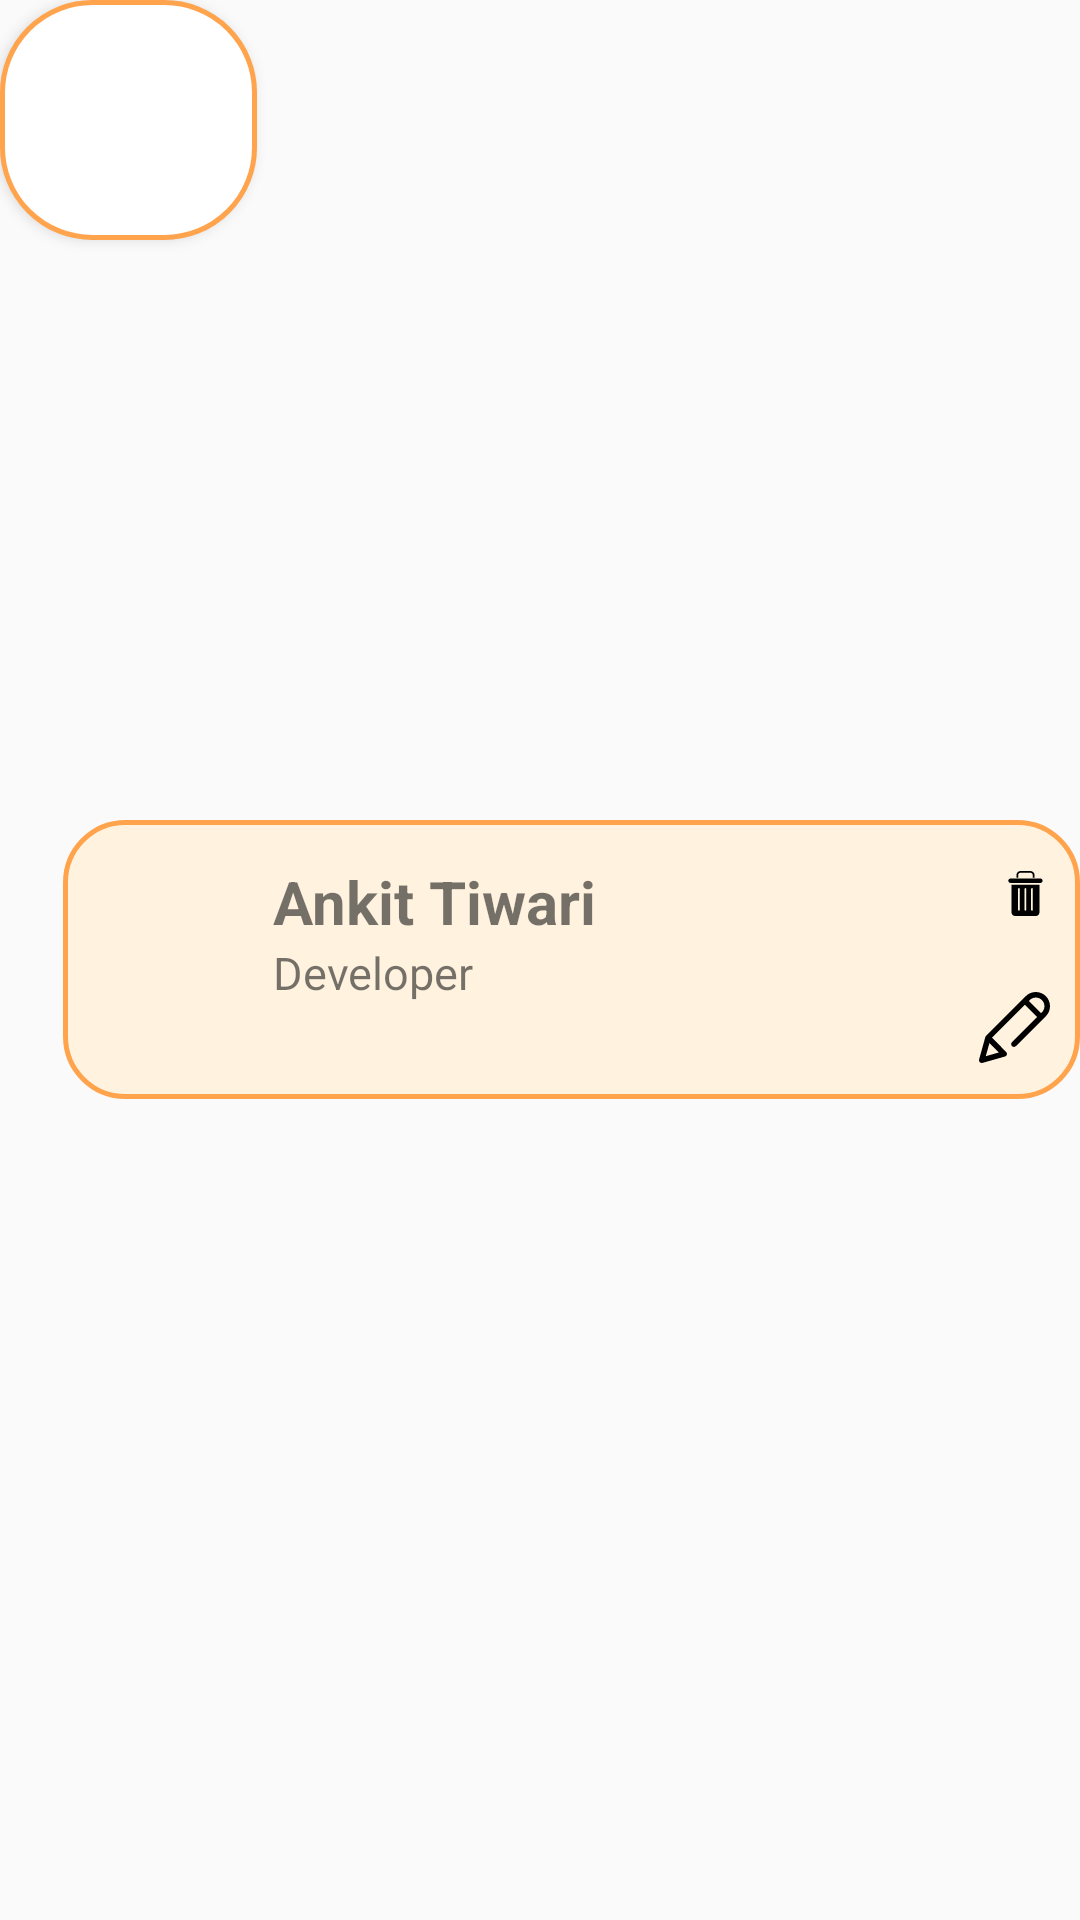

Where icons sit on this 1080 x 1920 app screen, as (x1, y1, x2, y2):
edit: (979, 992, 1050, 1063)
